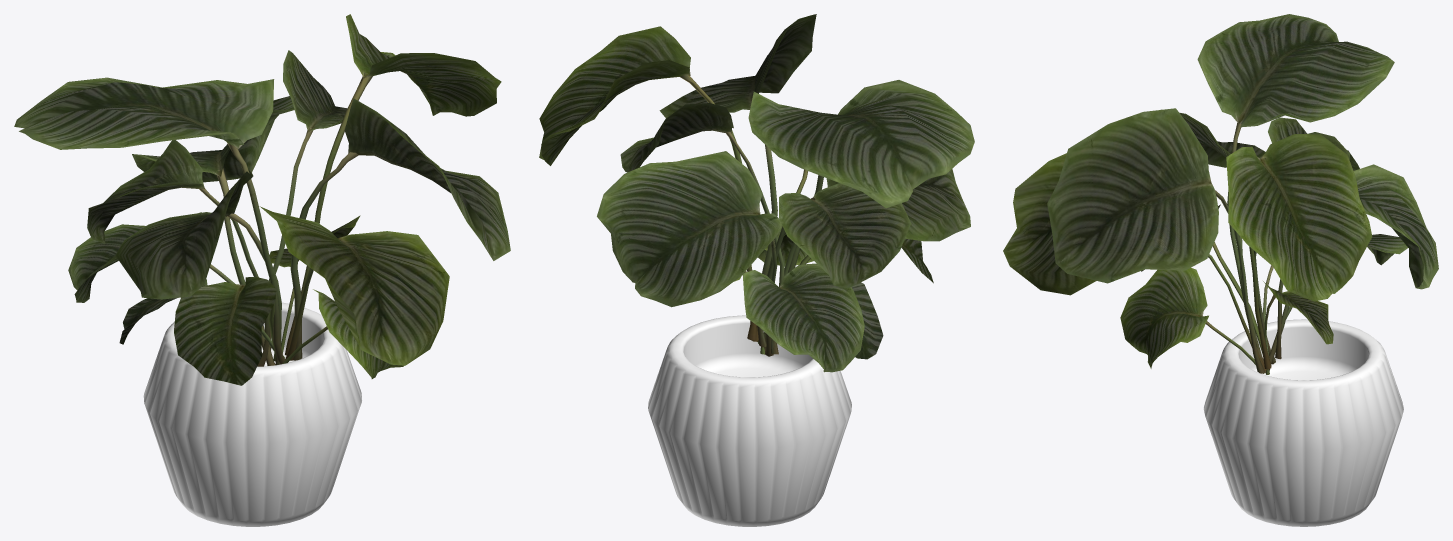
The model's file is Plant1.glb.
3 renders of one model, left to right at view 1: azimuth 30°, elevation 25°; view 2: azimuth 150°, elevation 25°; view 3: azimuth 270°, elevation 25°, orthographic. The views are drawn at different scales.
Parts seen in each view (by area): view 1: calathea Leaves, Ceramic pot; view 2: calathea Leaves, Ceramic pot; view 3: calathea Leaves, Ceramic pot.
Part boxes in pixels (box(x1,y1,x2,y2)): calathea Leaves: box(14, 14, 510, 385); Ceramic pot: box(143, 302, 361, 526); calathea Leaves: box(539, 14, 974, 372); Ceramic pot: box(648, 315, 851, 526); calathea Leaves: box(1003, 14, 1438, 374); Ceramic pot: box(1203, 319, 1403, 526).
Size of the model in its own units: 0.9956 by 0.9266 by 0.887.
2 materials, 1 textured.
